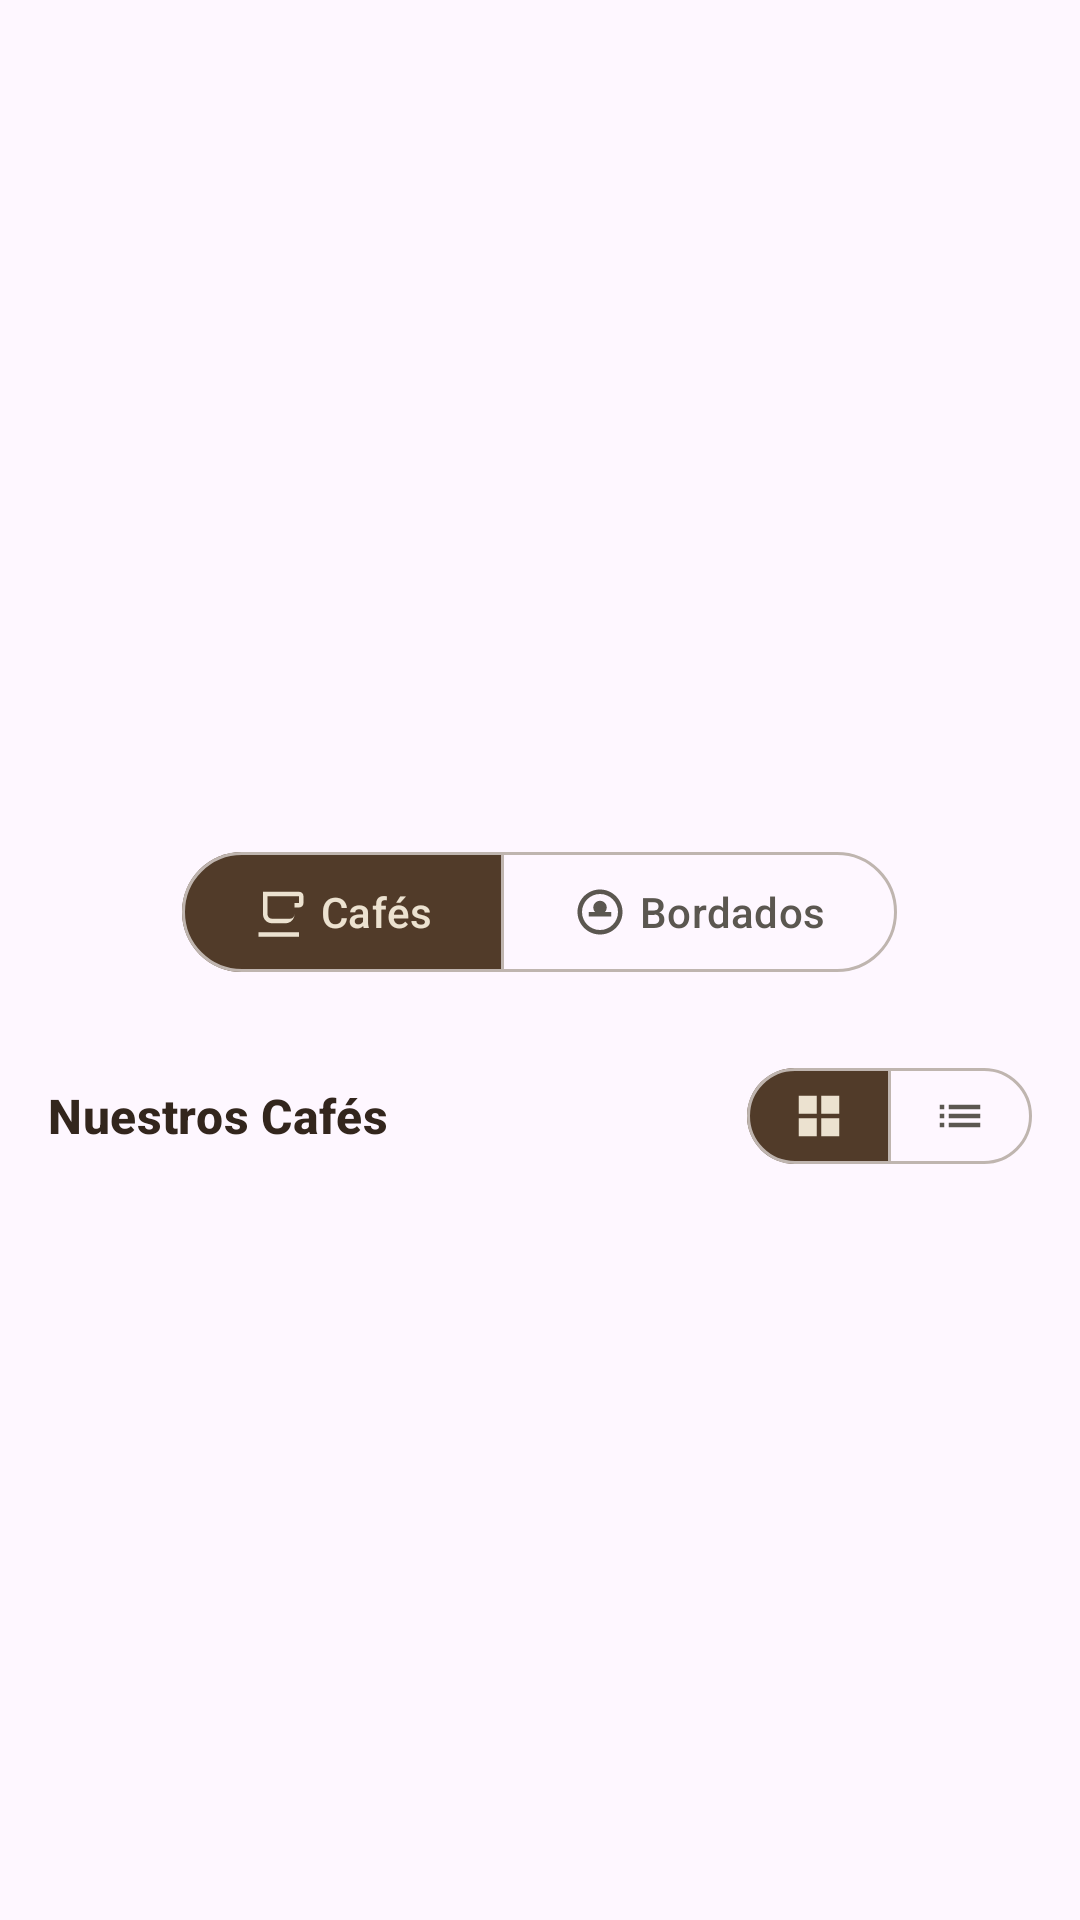

Where icons sit on this 1080 × 1920 app screen, as (x1, y1, x2, y2):
grid view: (747, 1068, 891, 1164)
list view: (888, 1068, 1032, 1164)
